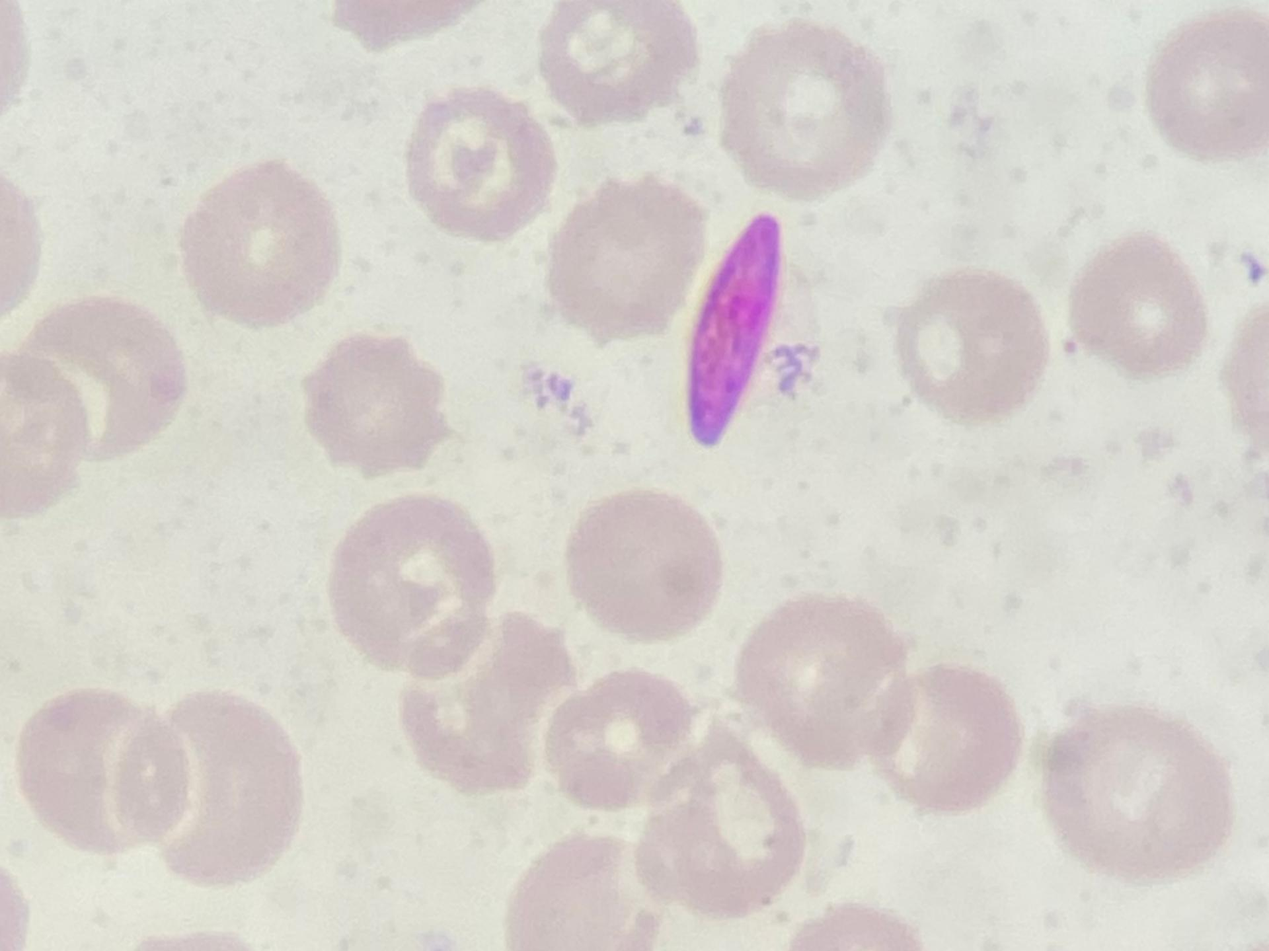Infected: (687, 217, 780, 446)
Uninfected: (738, 587, 918, 769), (401, 613, 577, 797), (1049, 710, 1232, 880), (725, 18, 894, 199), (148, 692, 307, 884), (330, 501, 496, 675), (639, 737, 802, 913), (178, 162, 345, 329), (546, 179, 709, 345), (22, 688, 188, 850), (892, 272, 1052, 424), (33, 298, 176, 459), (405, 84, 554, 237), (575, 490, 718, 640), (870, 668, 1022, 809), (546, 670, 702, 805), (302, 331, 448, 475), (1066, 236, 1210, 368)
